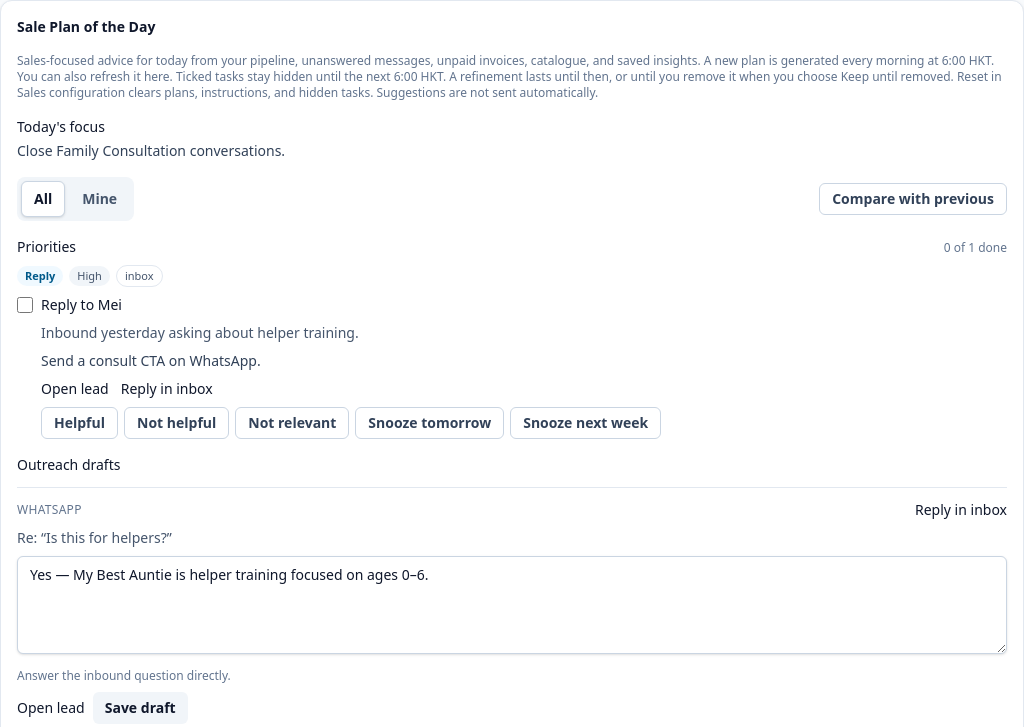
Test: SalePlanOfTheDayCard › loads comparison when Compare with previous is pressed
Click the button "Compare with previous": point(913, 199) [819,183,1007,215]
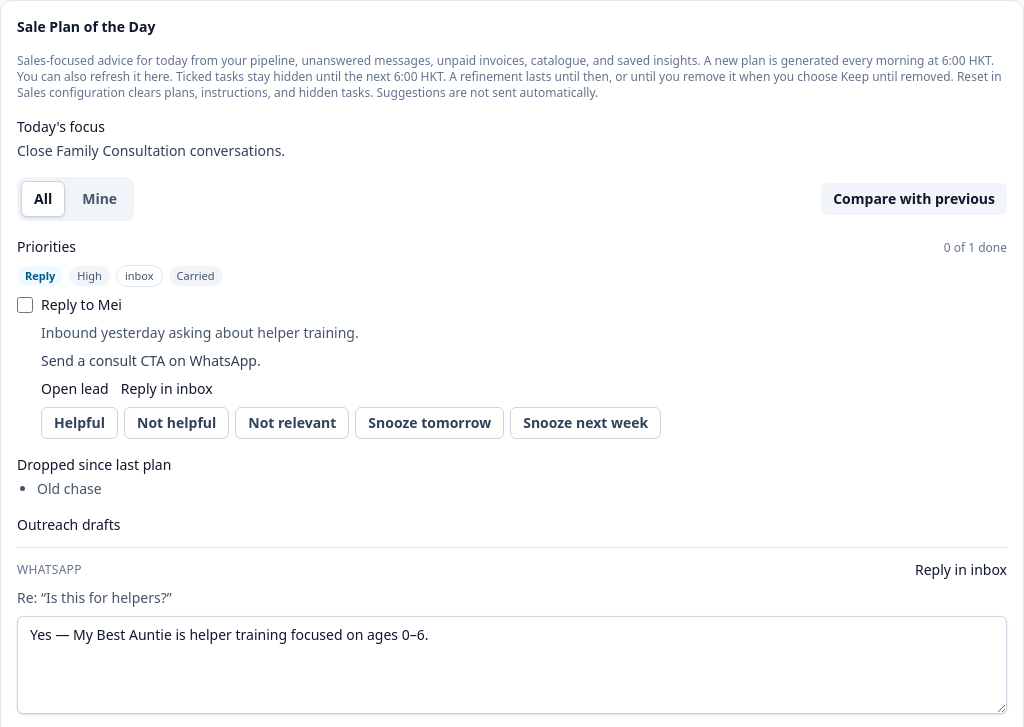
Expected: the heading "Dropped since last plan" is shown, [17,455,171,474]
Expected: the list item "Old chase" is shown, [37,479,102,498]
